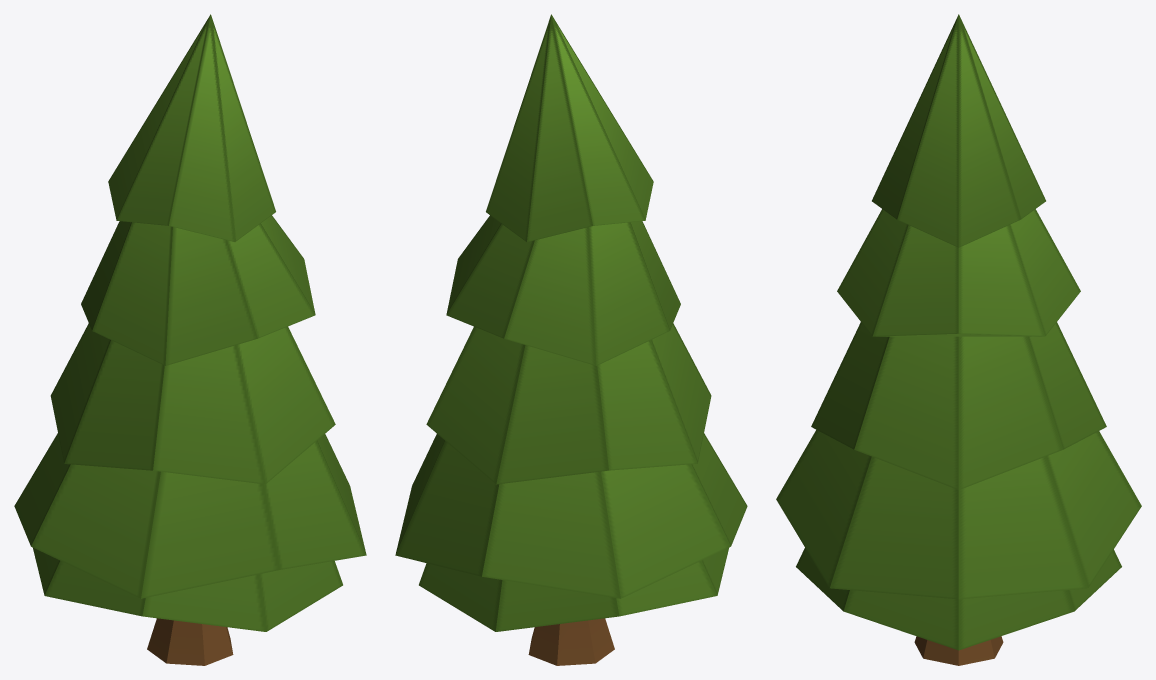
Rendered from cTree.glb.
3 renders of one model, left to right at view 1: azimuth 30°, elevation 25°; view 2: azimuth 150°, elevation 25°; view 3: azimuth 270°, elevation 25°, orthographic. The views are drawn at different scales.
Visible parts, largest first — view 1: Object_2; view 2: Object_2; view 3: Object_2.
Boxes of the visible parts, bbox=[...] form: Object_2: bbox=[14, 14, 366, 665]; Object_2: bbox=[395, 14, 747, 665]; Object_2: bbox=[776, 14, 1141, 665].
Bounding box in the file's own units: 232 × 438 × 226.
Materials: 1 (1 with a texture image).
